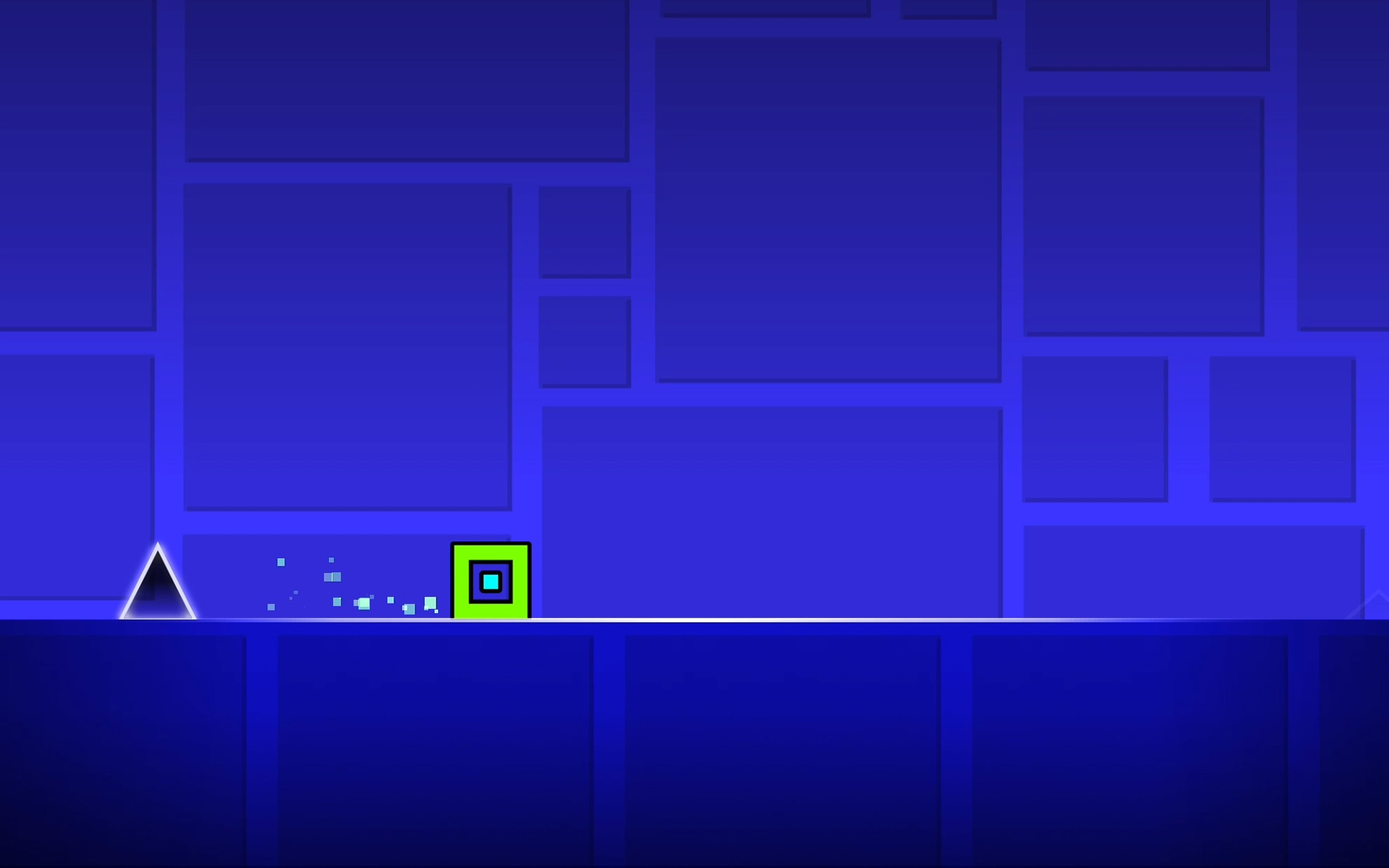Player: (440, 543, 531, 619)
Spike: (119, 544, 195, 619)
